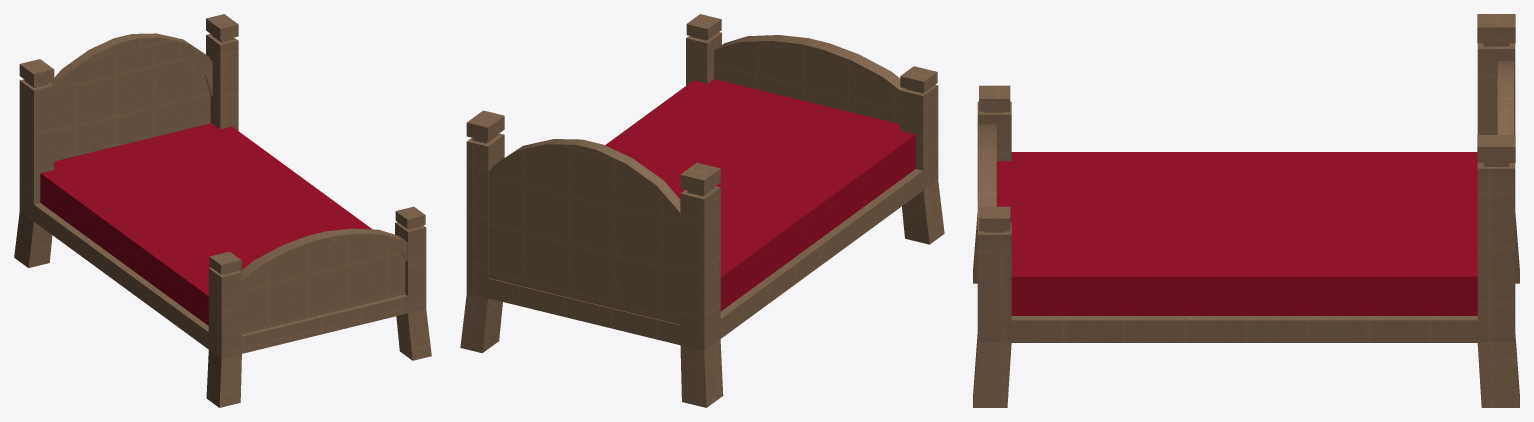
The model's file is red_bed.fbx.
3 views of the same model, side by side, from view 1: azimuth 30°, elevation 25°; view 2: azimuth 150°, elevation 25°; view 3: azimuth 270°, elevation 25° (orthographic). The views are drawn at different scales.
Visible parts, largest first — view 1: Red Bed; view 2: Red Bed; view 3: Red Bed.
Part boxes in pixels (bbox=[...]): Red Bed: bbox=[14, 14, 431, 407]; Red Bed: bbox=[460, 14, 944, 407]; Red Bed: bbox=[973, 14, 1519, 407].
Size of the model in its own units: 180 by 159 by 301.
